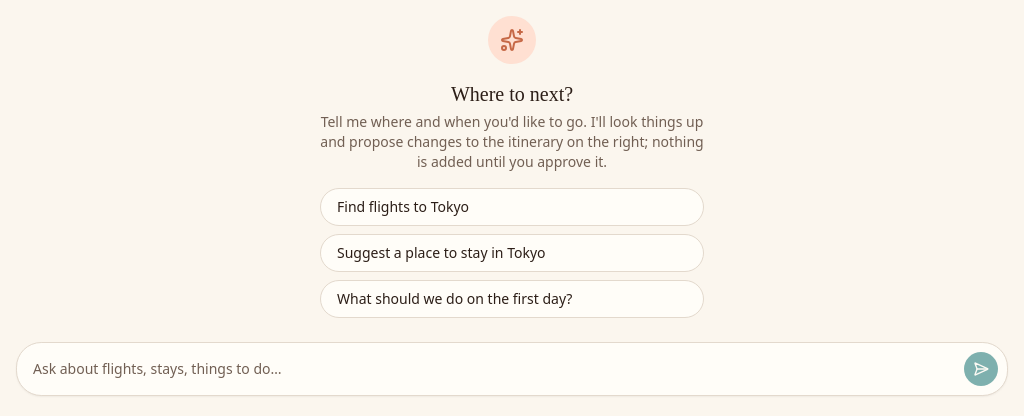
Test: ChatPanel › keeps an unsaved failure visible as a banner
Expected: the list named "Suggestions" is shown, top-left (320, 188), bottom-right (704, 318)
In the text box named "Message": (490, 369) top-left (25, 351), bottom-right (955, 387), type "Hi"
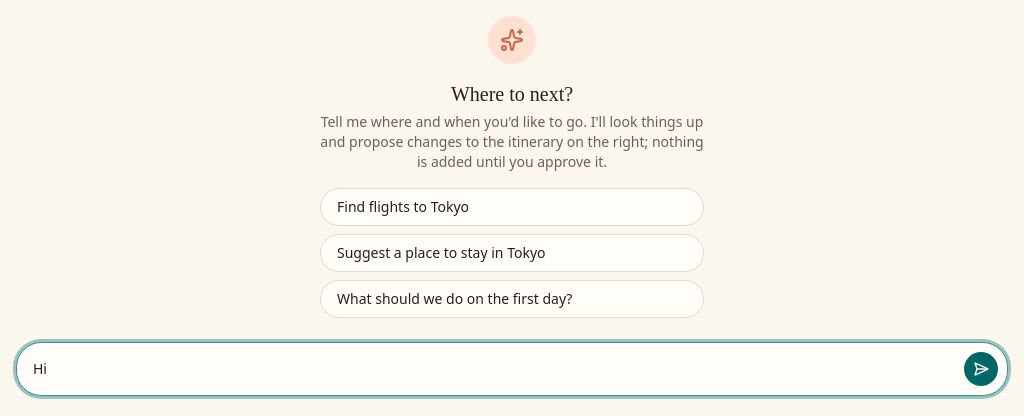
Click the button named "Send message": (981, 369) top-left (963, 351), bottom-right (999, 387)
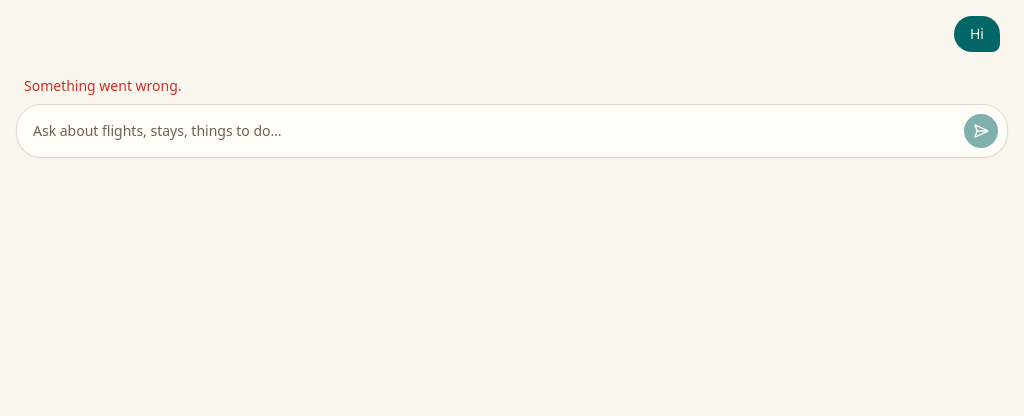
Expected: the message reads "Something went wrong.", top-left (24, 76), bottom-right (182, 95)
